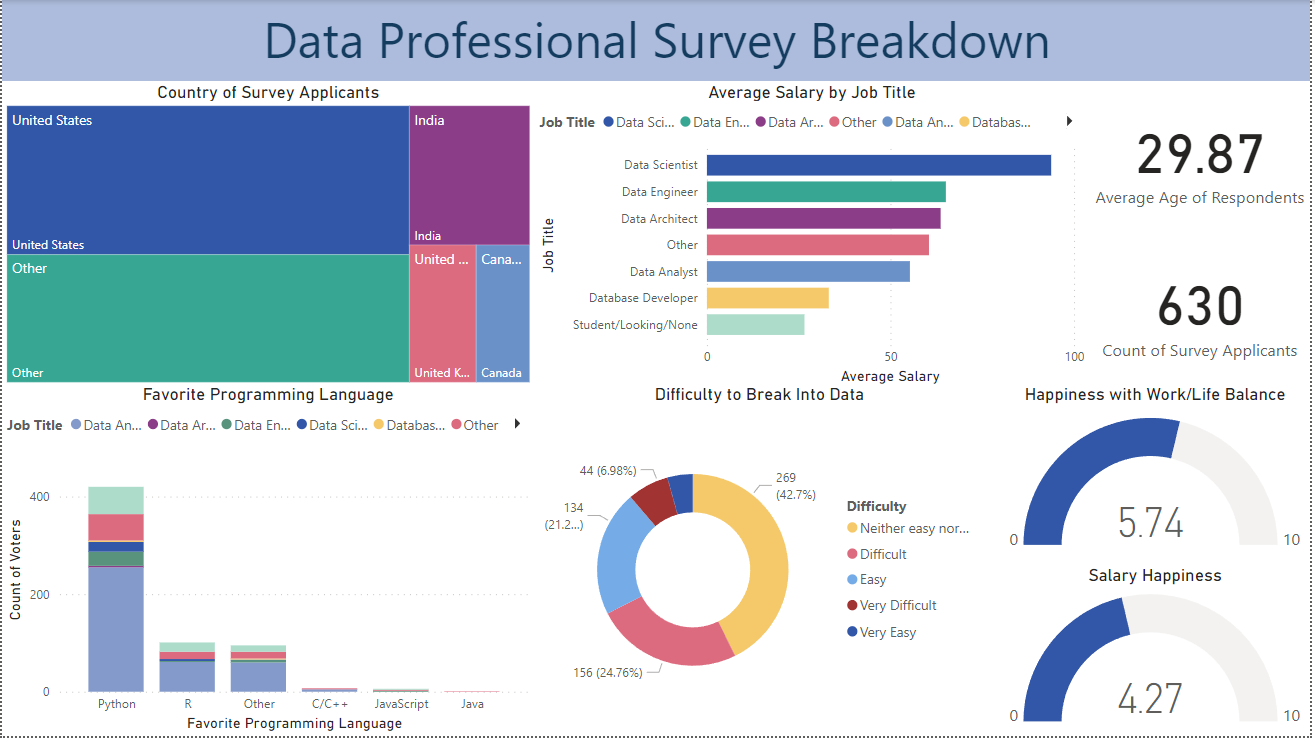

This screenshot's page, from the dashboard's own definition file:
{"tool":"powerbi","page":{"name":"Page 1","canvas":[1280,720],"ordinal":0},"visuals":[{"type":"textbox","box":[0,0,1281.1,79.5],"z":0},{"type":"card","fields":{"Values":["Count(Data Professional Survey.Unique ID)"]},"box":[1063.5,231,216.4,144.2],"z":1000},{"type":"card","fields":{"Values":["Avg(Data Professional Survey.Q10 - Current Age)"]},"box":[1063.5,79.5,216.4,149.1],"z":2000},{"type":"barChart","title":"Average Salary by Job Title","fields":{"Category":["Data Professional Survey.Q1 - Which Title Best Fits your Current Role?.1"],"Y":["Avg(Data Professional Survey.Average Salary)"],"Series":["Data Professional Survey.Q1 - Which Title Best Fits your Current Role?.1"]},"box":[520.7,79.5,542.8,301.9],"z":3000},{"type":"columnChart","title":"Favorite Programming Language","fields":{"Category":["Data Professional Survey.Q5 - Favorite Programming Language.1"],"Y":["CountNonNull(Data Professional Survey.Unique ID)"],"Series":["Data Professional Survey.Q1 - Which Title Best Fits your Current Role?.1"]},"box":[0,375.3,520.7,344.7],"z":4000},{"type":"treemap","title":"Country of Survey Applicants","fields":{"Group":["Data Professional Survey.Q11 - Which Country do you live in?.1"],"Details":["Data Professional Survey.Q11 - Which Country do you live in?.1"],"Values":["CountNonNull(Data Professional Survey.Q11 - Which Country do you live in?.1)"]},"box":[0,79.5,520.7,299.5],"z":5000},{"type":"gauge","title":"Happiness with Work/Life Balance","fields":{"Y":["Avg(Data Professional Survey.Q6 - How Happy are you in your Current Position with the following? (Work/Life Balance))"],"MinValue":["Min(Data Professional Survey.Q6 - How Happy are you in your Current Position with the following? (Work/Life Balance))"],"MaxValue":["Max(Data Professional Survey.Q6 - How Happy are you in your Current Position with the following? (Work/Life Balance))1"]},"box":[975.5,375.3,304.4,177.2],"z":6000},{"type":"gauge","title":"Salary Happiness","fields":{"Y":["Avg(Data Professional Survey.Q6 - How Happy are you in your Current Position with the following? (Salary))"],"MinValue":["Min(Data Professional Survey.Q6 - How Happy are you in your Current Position with the following? (Salary))"],"MaxValue":["Max(Data Professional Survey.Q6 - How Happy are you in your Current Position with the following? (Salary))"]},"box":[975.5,552.5,304.4,167.5],"z":7000},{"type":"donutChart","title":"Difficulty to Break Into Data","fields":{"Category":["Data Professional Survey.Q7 - How difficult was it for you to break into Data?"],"Y":["CountNonNull(Data Professional Survey.Q7 - How difficult was it for you to break into Data?)"]},"box":[520.7,375.3,440.1,344.7],"z":8000}]}

Visuals, with their boxes in screenshot pixels (x1, y1, x2, y2), scaled from the page's 1280x720 canvas onto the 1315x742 screenshot:
textbox: bbox=(0, 0, 1314, 82)
card - Count(Data Professional Survey.Unique ID): bbox=(1093, 238, 1314, 387)
card - Avg(Data Professional Survey.Q10 - Current Age): bbox=(1093, 82, 1314, 236)
"Average Salary by Job Title" barChart: bbox=(535, 82, 1093, 393)
"Favorite Programming Language" columnChart: bbox=(0, 387, 535, 741)
"Country of Survey Applicants" treemap: bbox=(0, 82, 535, 391)
"Happiness with Work/Life Balance" gauge: bbox=(1002, 387, 1314, 569)
"Salary Happiness" gauge: bbox=(1002, 569, 1314, 741)
"Difficulty to Break Into Data" donutChart: bbox=(535, 387, 987, 741)
